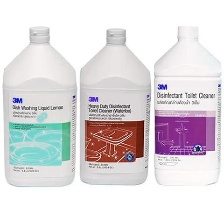cleaning_solution: (0, 24, 79, 190), (148, 23, 224, 190), (76, 26, 152, 188)
